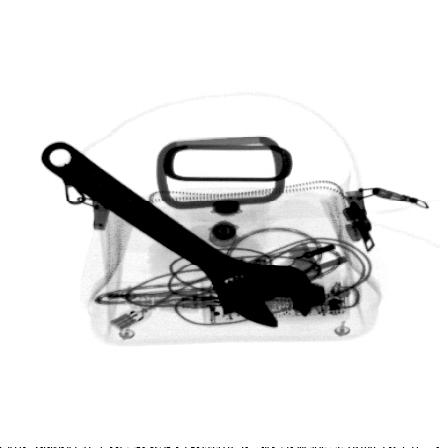Wrench: (38, 140, 316, 331)
